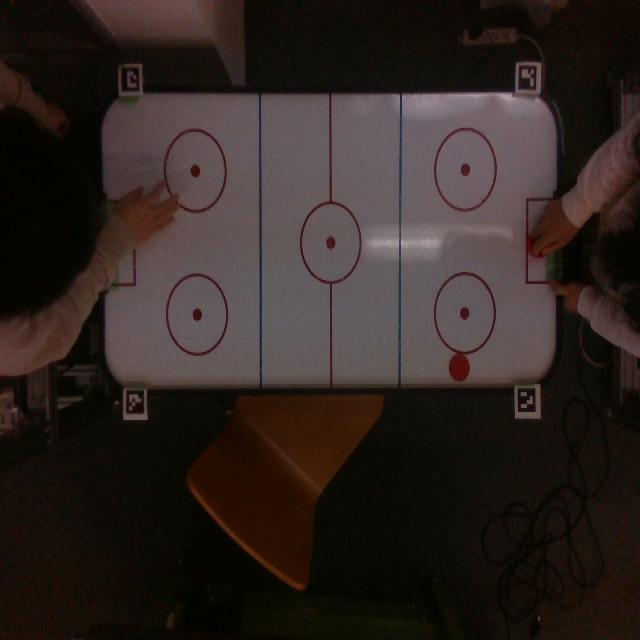puck: (449, 353, 470, 382)
